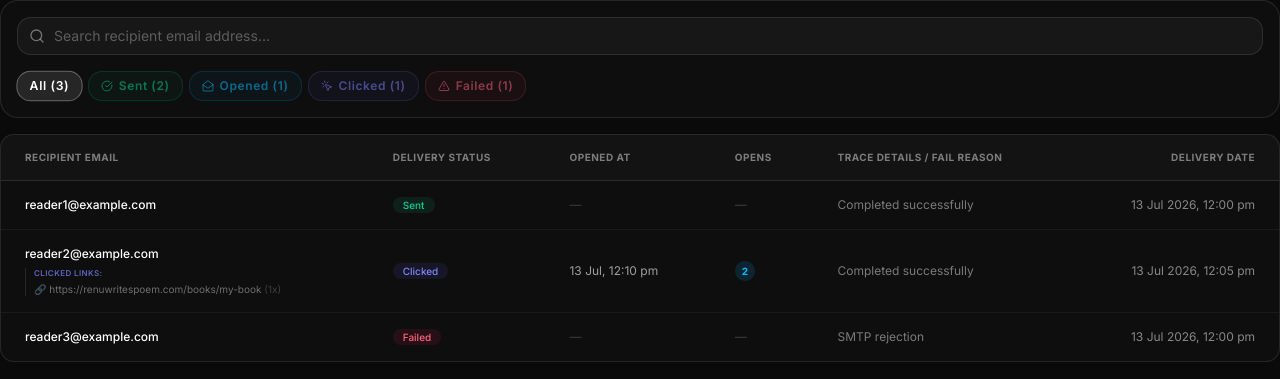
Test: DeliveryLogsClient component › should filter the recipient logs by email search query
# Search for reader1
Type "reader1" into the field with placeholder "Search recipient email address..." at coordinates (640, 36), box [17,17,1263,55]
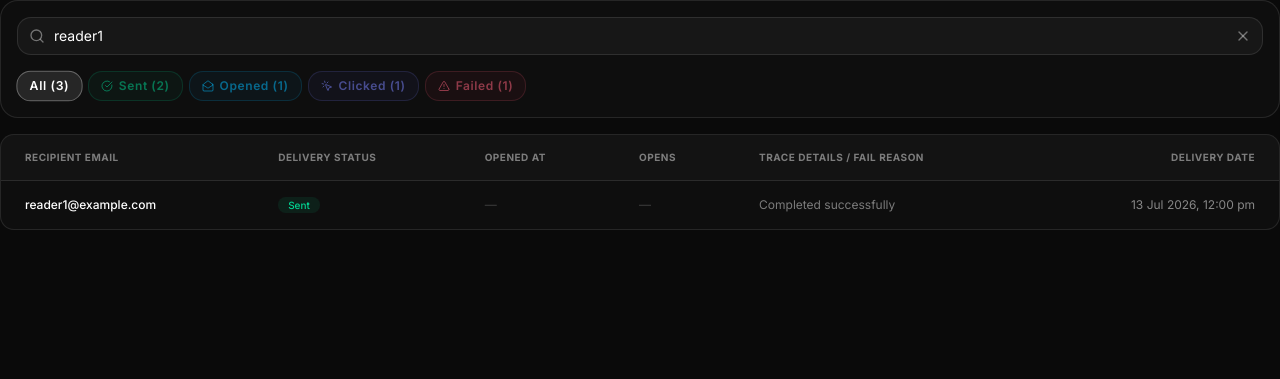
Expected: the text "reader1@example.com" is shown, [25,197,156,212]
Now the text "reader2@example.com" is gone
Now the text "reader3@example.com" is gone
